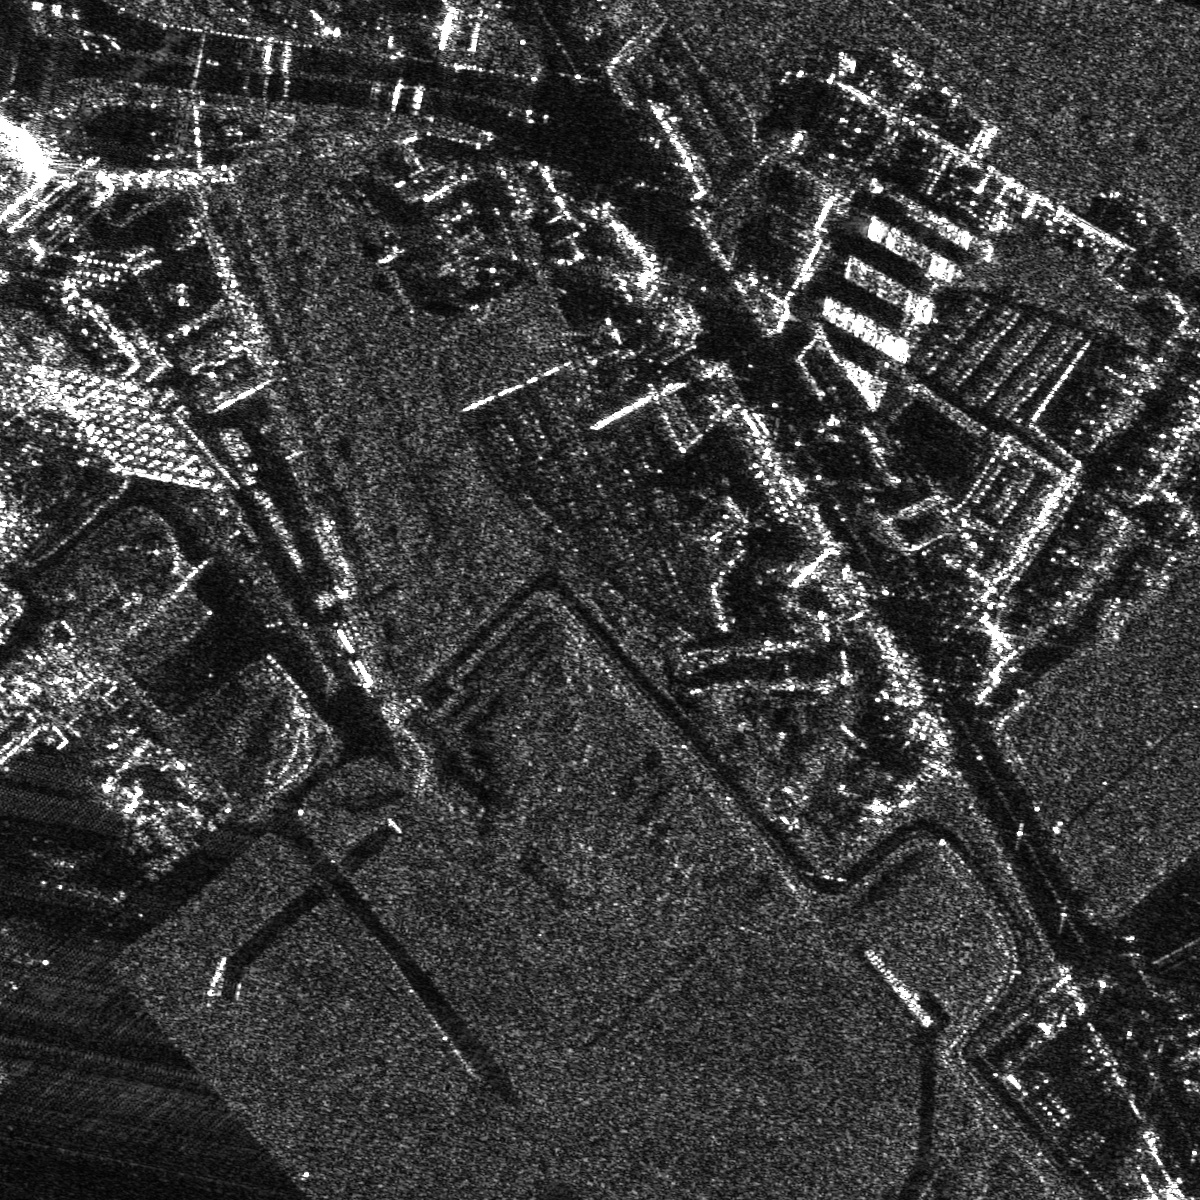Boeing737: (35, 845, 105, 905)
